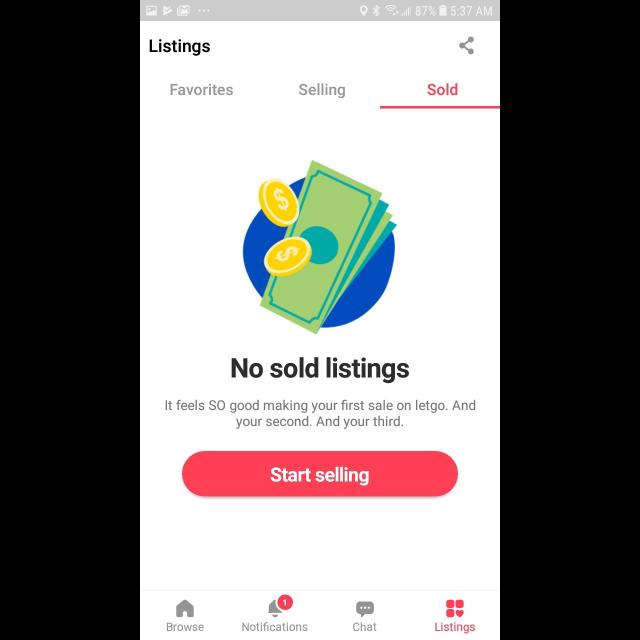icon: (268, 594, 294, 618), (176, 599, 194, 617), (446, 599, 464, 617), (356, 602, 374, 618), (460, 37, 474, 55)
image: (242, 160, 398, 336)
text: (166, 399, 476, 429), (231, 356, 409, 384), (150, 40, 210, 56), (170, 84, 233, 96), (299, 83, 345, 99), (242, 621, 308, 631), (435, 622, 475, 634), (168, 622, 205, 632), (428, 84, 458, 96), (353, 622, 377, 632)
textbutton: (182, 451, 458, 497)
uppertaskbar: (140, 1, 500, 22)
